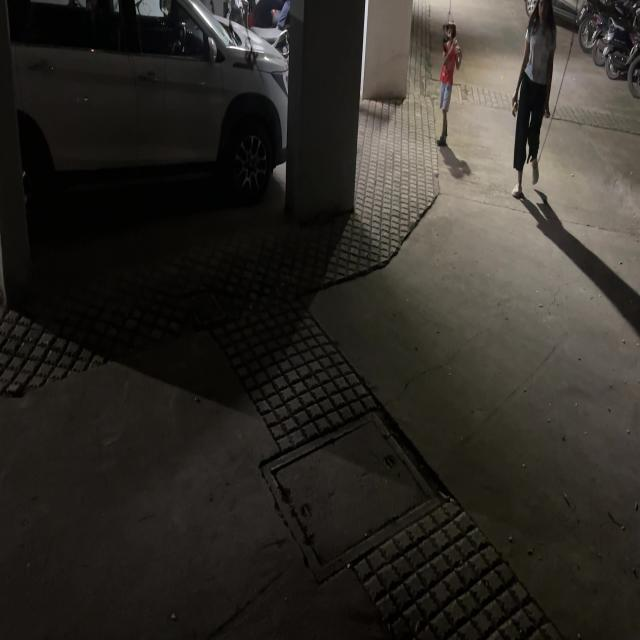human: (510, 0, 561, 202), (435, 18, 459, 154)
